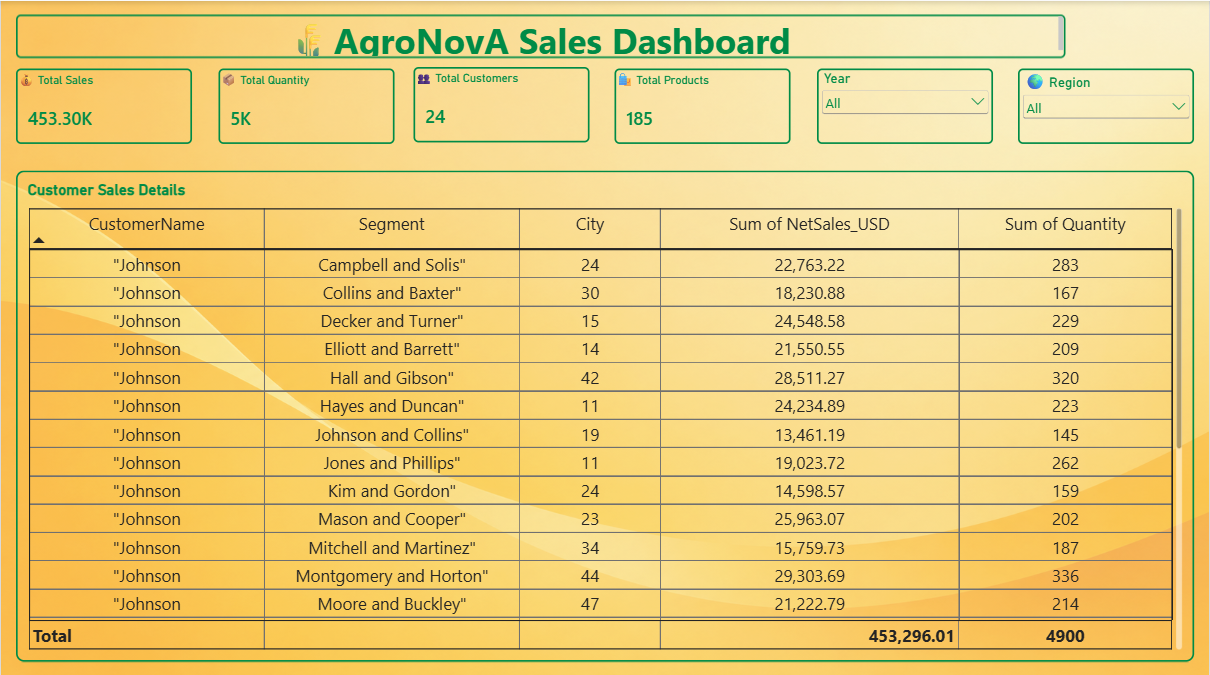

Layout of this report page (visuals, bound fields, positions):
{"tool":"powerbi","page":{"name":"Customer Details","canvas":[1920,1080],"ordinal":3},"visuals":[{"type":"textbox","box":[22.7,20.4,1669,69],"z":0},{"type":"tableEx","title":"Customer Sales Details","fields":{"Values":["STG_Dim_Customer.CustomerName","STG_Dim_Customer.Segment","STG_Dim_Customer.City","Sum(STG_Fact_Sales.NetSales_USD)","Sum(STG_Fact_Sales.Quantity)"]},"box":[22.7,270.3,1873.8,781.3],"z":1000},{"type":"cardVisual","title":"💰 Total Sales","fields":{"Data":["Sum(STG_Fact_Sales.NetSales_USD)"]},"box":[25,106.8,280,120],"z":2000},{"type":"cardVisual","title":"📦 Total Quantity","fields":{"Data":["Sum(STG_Fact_Sales.Quantity)"]},"box":[345.2,106.8,280,120],"z":3000},{"type":"cardVisual","title":"👥 Total Customers","fields":{"Data":["Count(STG_Fact_Sales.CustomerID)"]},"box":[656.4,104.5,280,120],"z":4000},{"type":"cardVisual","title":"🛍️ Total Products","fields":{"Data":["Count(STG_Fact_Sales.ProductID)"]},"box":[976.7,106.8,280,120],"z":5000},{"type":"slicer","fields":{"Values":["STG_Dim_Calendar.Year"]},"box":[1296.9,106.8,280,120],"z":6000},{"type":"slicer","fields":{"Values":["STG_Dim_Country.Region"]},"box":[1617.2,106.8,280,120],"z":7000}]}

Visuals, with their boxes in screenshot pixels (x1, y1, x2, y2), scaled from the page's 1920x1080 canvas onto the 1210x675 screenshot:
textbox: box=[14, 13, 1066, 56]
"Customer Sales Details" tableEx: box=[14, 169, 1195, 657]
"💰 Total Sales" cardVisual: box=[16, 67, 192, 142]
"📦 Total Quantity" cardVisual: box=[218, 67, 394, 142]
"👥 Total Customers" cardVisual: box=[414, 65, 590, 140]
"🛍️ Total Products" cardVisual: box=[616, 67, 792, 142]
slicer - STG_Dim_Calendar.Year: box=[817, 67, 994, 142]
slicer - STG_Dim_Country.Region: box=[1019, 67, 1196, 142]
